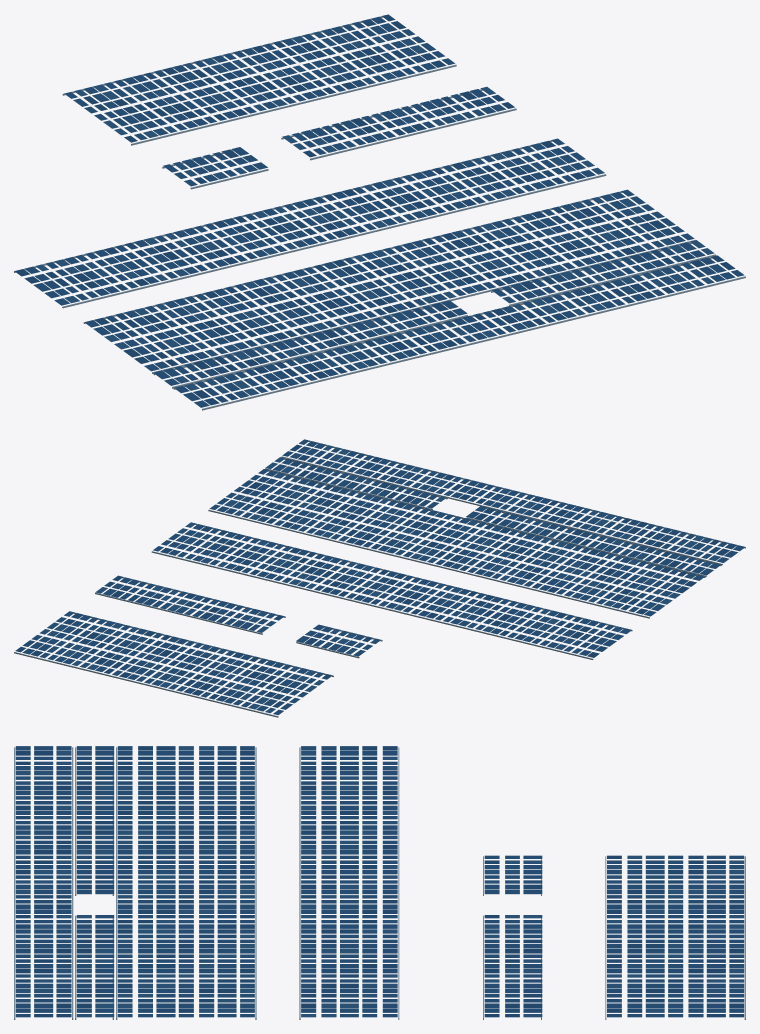
Rendered from SM_MPRH_SolarBank_00_0_LOD1.fbx.
The picture shows the model from 3 angles, top to bottom: view 1: azimuth 30°, elevation 25°; view 2: azimuth 150°, elevation 25°; view 3: azimuth 270°, elevation 25°; orthographic projection. The views are drawn at different scales.
Visible parts, largest first — view 1: SM_MPRH_SolarBank_00_0_LOD1; view 2: SM_MPRH_SolarBank_00_0_LOD1; view 3: SM_MPRH_SolarBank_00_0_LOD1.
Part boxes in pixels (bbox=[...]): SM_MPRH_SolarBank_00_0_LOD1: bbox=[14, 14, 745, 410]; SM_MPRH_SolarBank_00_0_LOD1: bbox=[14, 439, 745, 717]; SM_MPRH_SolarBank_00_0_LOD1: bbox=[14, 746, 745, 1019].
Size of the model in its own units: 6144 by 7002 by 24.6.
